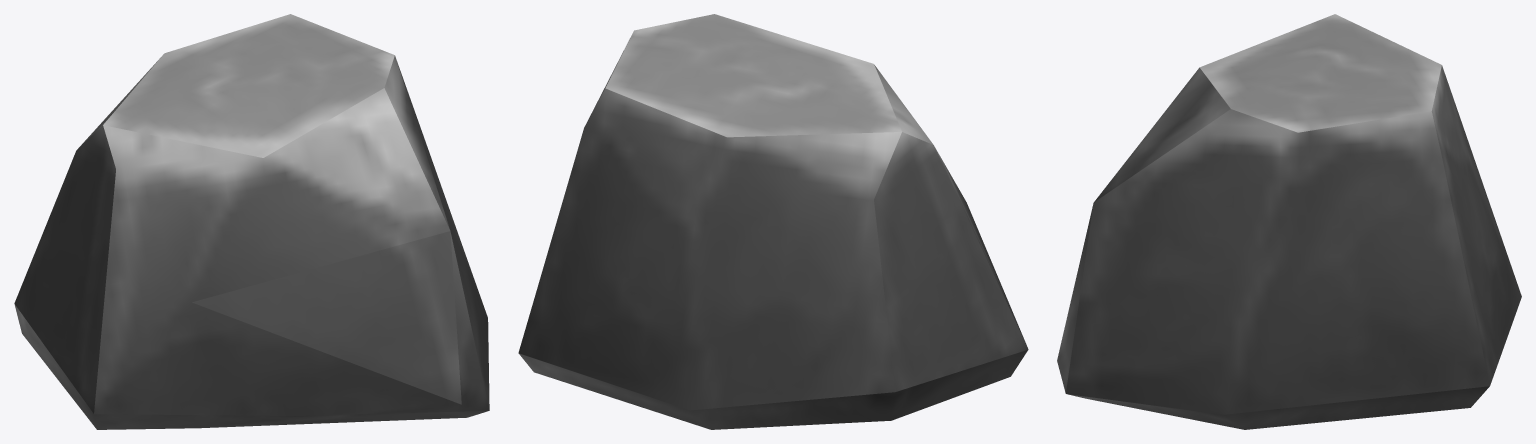
File: SM_Rocks_07.obj
3 views of the same model, side by side, from view 1: azimuth 30°, elevation 25°; view 2: azimuth 150°, elevation 25°; view 3: azimuth 270°, elevation 25° (orthographic). The views are drawn at different scales.
Visible parts, largest first — view 1: SM_Rocks_07; view 2: SM_Rocks_07; view 3: SM_Rocks_07.
Boxes of the visible parts, x1,y1,x2,y2 form: SM_Rocks_07: (14,14,489,429); SM_Rocks_07: (518,14,1028,429); SM_Rocks_07: (1057,14,1521,429).
Bounding box in the file's own units: 0.5749 × 0.4096 × 0.5771.
1 material, 1 textured.
